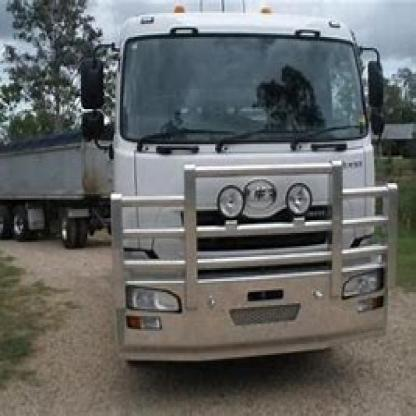dump_truck: (67, 6, 413, 414)
